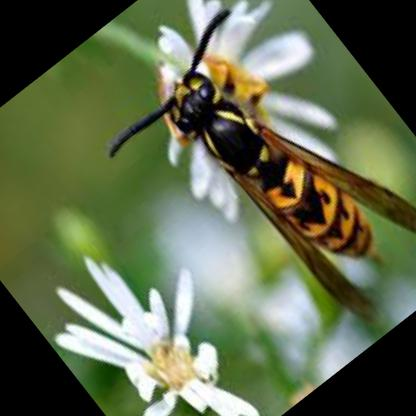european: (82, 0, 415, 375)
